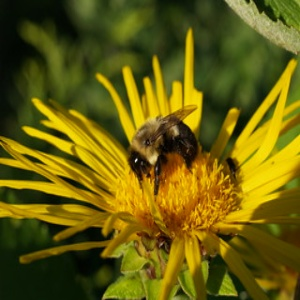bee: (128, 104, 204, 196)
